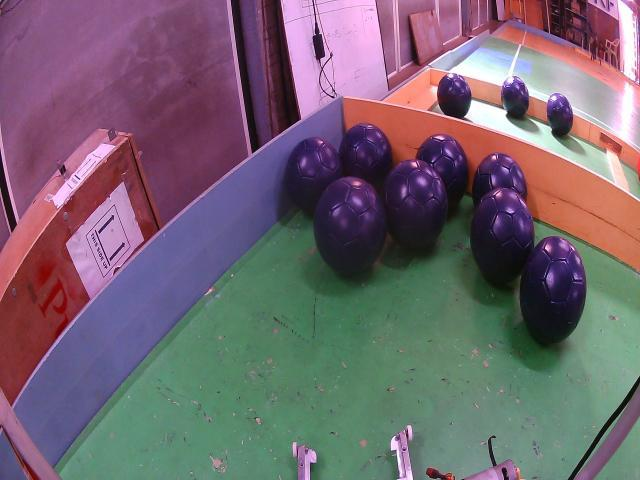kaalyya: (314, 177, 388, 275), (520, 237, 586, 343), (470, 187, 535, 283), (381, 158, 448, 248), (286, 137, 342, 213), (416, 133, 469, 208), (339, 123, 392, 182), (472, 153, 528, 207), (438, 73, 471, 118), (546, 93, 574, 137), (501, 75, 529, 118)
